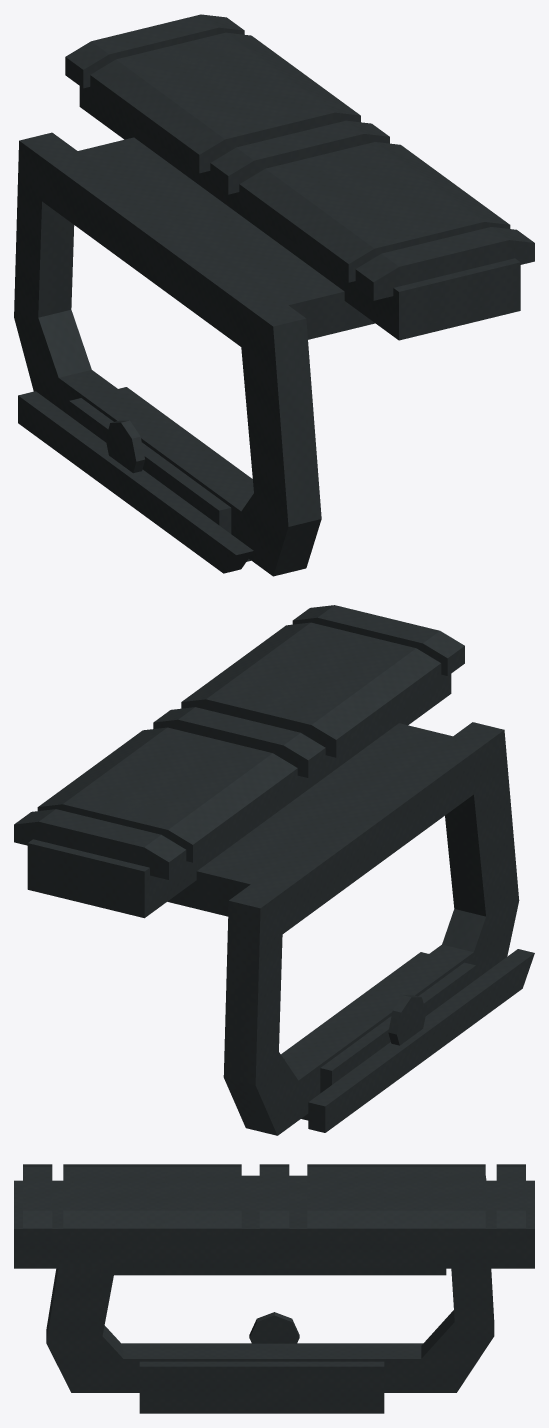
File: m14_mount.glb
3 views of the same model, one above another, from view 1: azimuth 30°, elevation 25°; view 2: azimuth 150°, elevation 25°; view 3: azimuth 270°, elevation 25° (orthographic). The views are drawn at different scales.
Visible parts, largest first — view 1: mount__m14_mount_LOD0_RAID_Secondary_Original_steel, mount__m14_mount_LOD1_RAID_Secondary_Original_steel; view 2: mount__m14_mount_LOD0_RAID_Secondary_Original_steel, mount__m14_mount_LOD1_RAID_Secondary_Original_steel; view 3: mount__m14_mount_LOD0_RAID_Secondary_Original_steel, mount__m14_mount_LOD1_RAID_Secondary_Original_steel.
Boxes of the visible parts, x1=… form: mount__m14_mount_LOD0_RAID_Secondary_Original_steel: x1=14, y1=14, x2=534, y2=576; mount__m14_mount_LOD1_RAID_Secondary_Original_steel: x1=90, y1=32, x2=510, y2=282; mount__m14_mount_LOD0_RAID_Secondary_Original_steel: x1=14, y1=605, x2=534, y2=1135; mount__m14_mount_LOD1_RAID_Secondary_Original_steel: x1=37, y1=622, x2=441, y2=862; mount__m14_mount_LOD0_RAID_Secondary_Original_steel: x1=14, y1=1164, x2=534, y2=1413; mount__m14_mount_LOD1_RAID_Secondary_Original_steel: x1=63, y1=1164, x2=485, y2=1243.
Size of the model in its own units: 0.1205 by 0.1415 by 0.25.
1 material, 1 textured.
